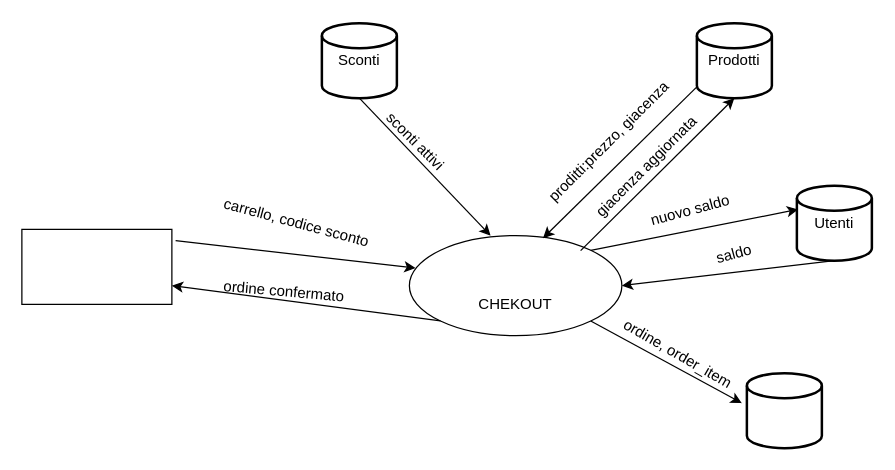
This 895x470 diagram has some shape labels left out. The centre of each missing label's shape, as x and y in pixels:
"Ordini" belongs at [783,410].
"UTENTE" belongs at [96,266].
